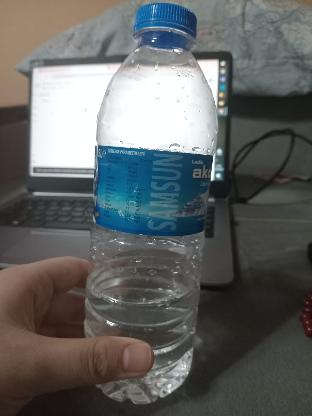Plastic Bottle: (78, 4, 220, 416)
